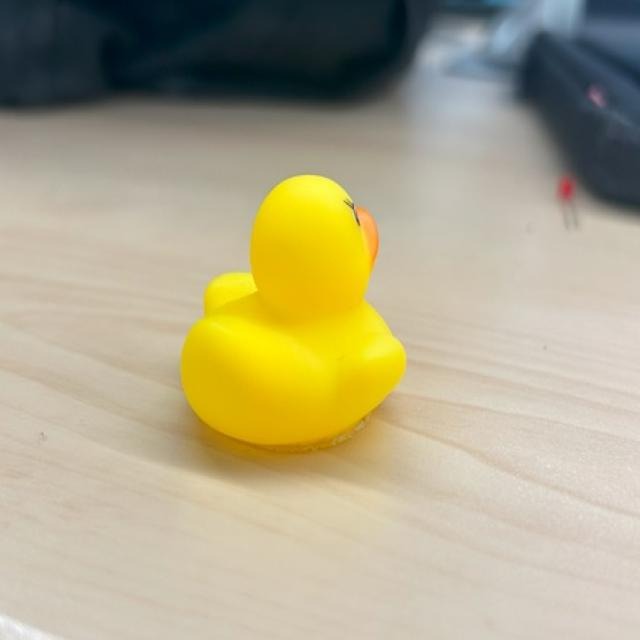duck_regular: (147, 148, 442, 478)
